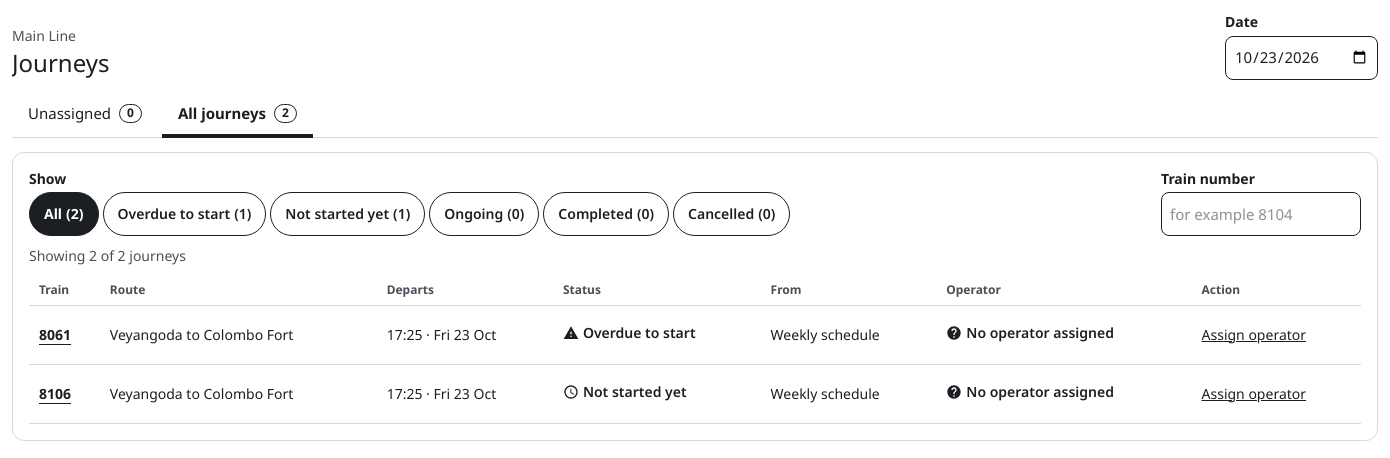
Test: Journeys: the Unassigned list (spec 17 A2) › has an Overdue to start filter for journeys that nothing has started, apart from Not started yet
The width and height of the screenshot is (1390, 458).
Expected: the button "Not started yet (1)" is shown, [270,192,425,236]
Click the button "Overdue to start (1)" at (184, 214), box [103,192,266,236]
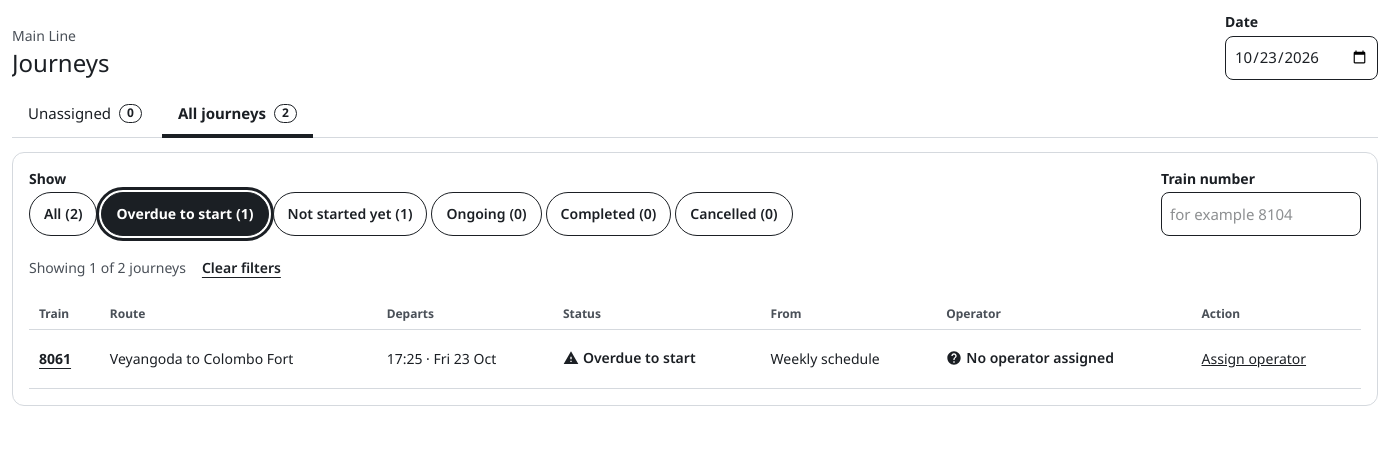
Expected: the link "8061" is shown, [39,349,71,368]
Expected: the link "8106" is gone
